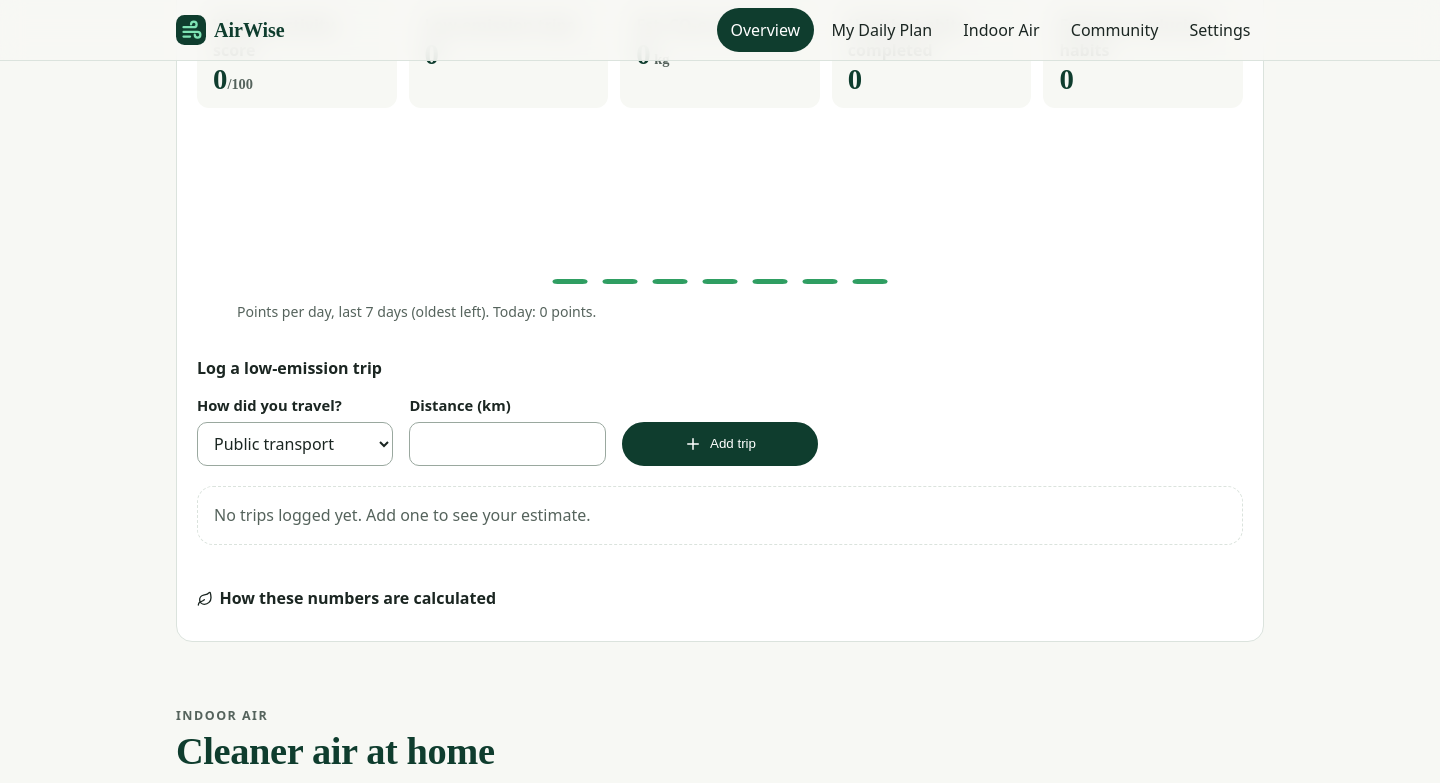
Test case: daily plan, indoor air, impact › logs a trip with validation, updates the tracker and deletes it
(page scrolled)
Click the button "Add trip": (720, 444) [622,422,818,466]
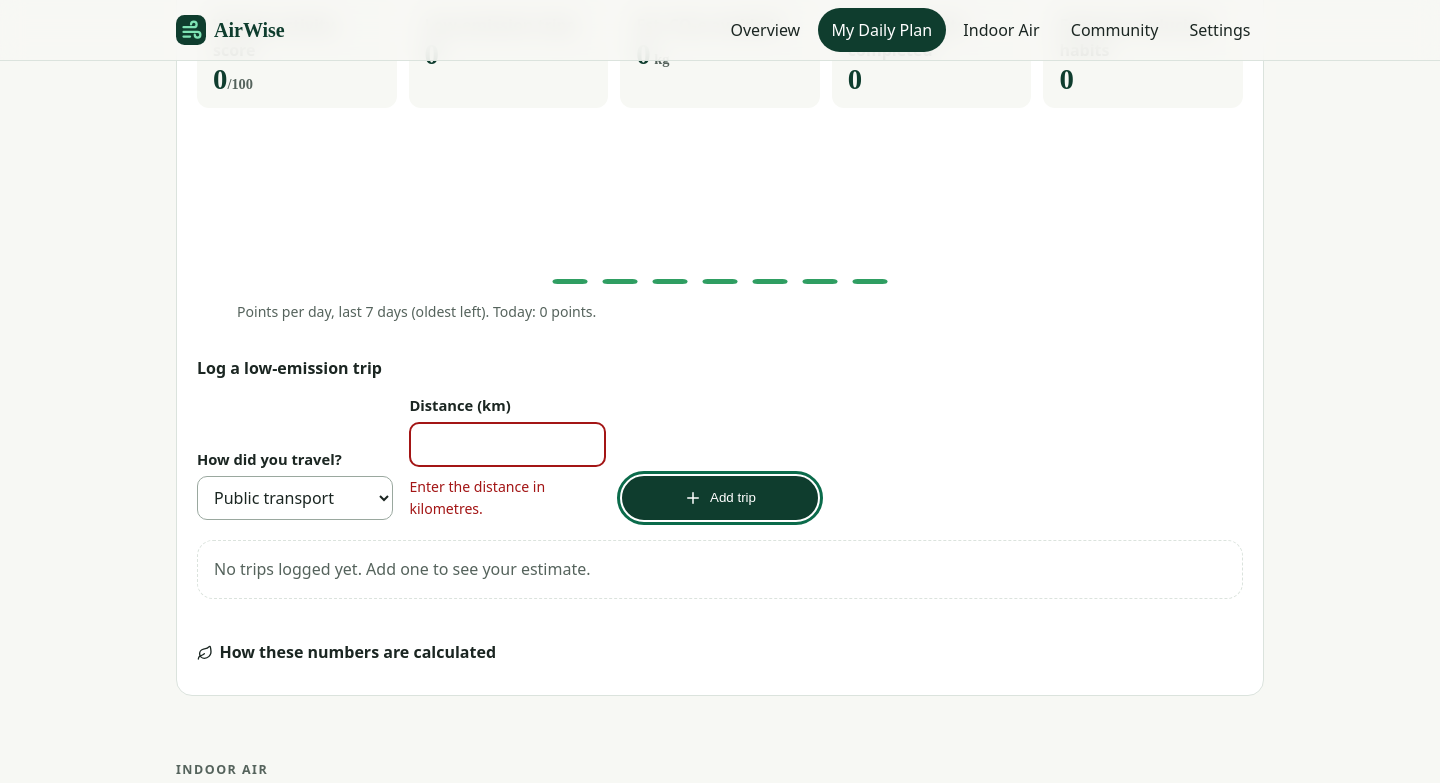
Now the text "Enter the distance in kilometres." is shown, box [409,477,545,518]
In the field labelled "Distance (km)": (508, 444) [409,422,606,466], type "10"
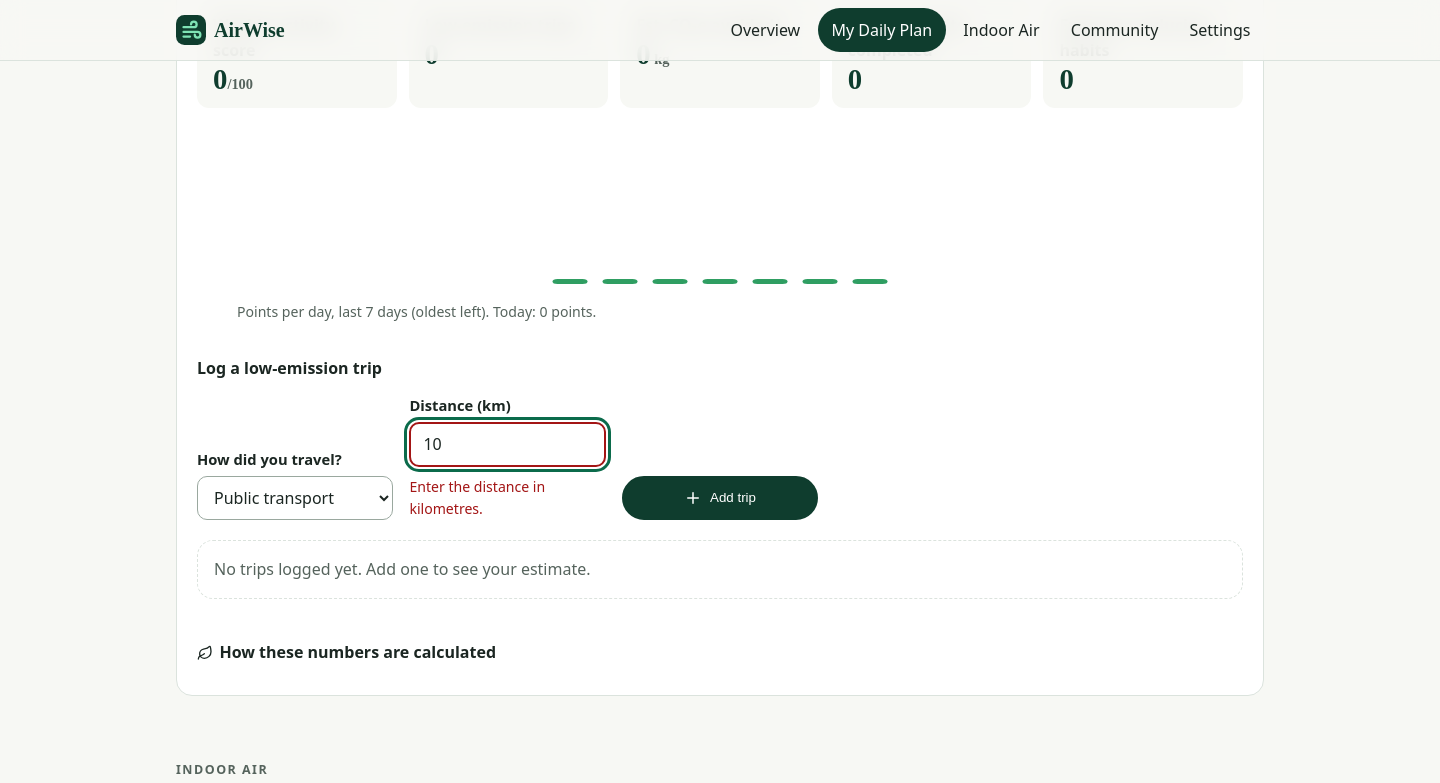
Click the button "Add trip": (720, 498) [622,476,818,520]
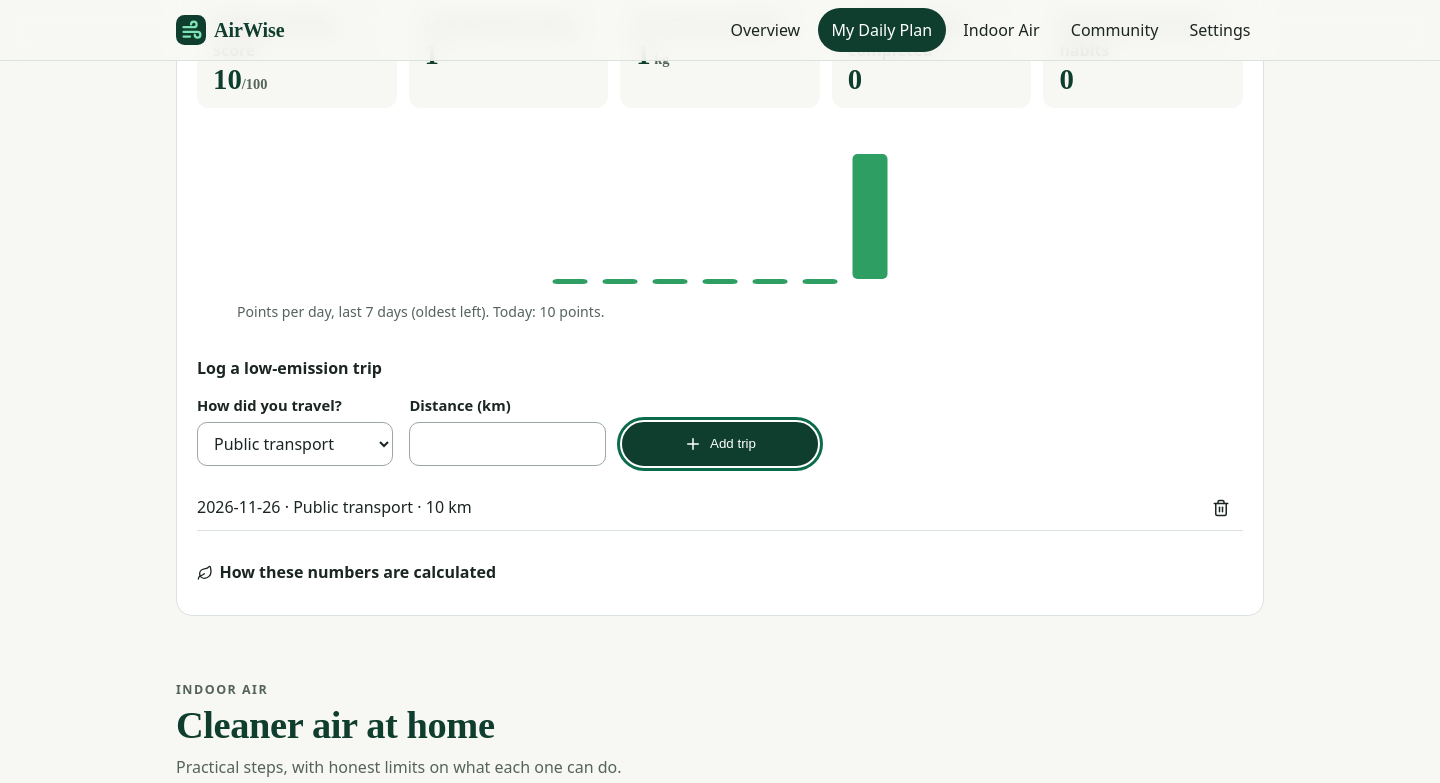
Now the text "2026-11-26 · Public transport · 10 km" is shown, box [197,495,472,520]
Now the text "1" is shown, box [425,38,439,70]
Now the element showing "1 kg" is shown, box [636,38,669,70]
Click the button named "Delete trip": (1221, 508) [1199,486,1243,530]
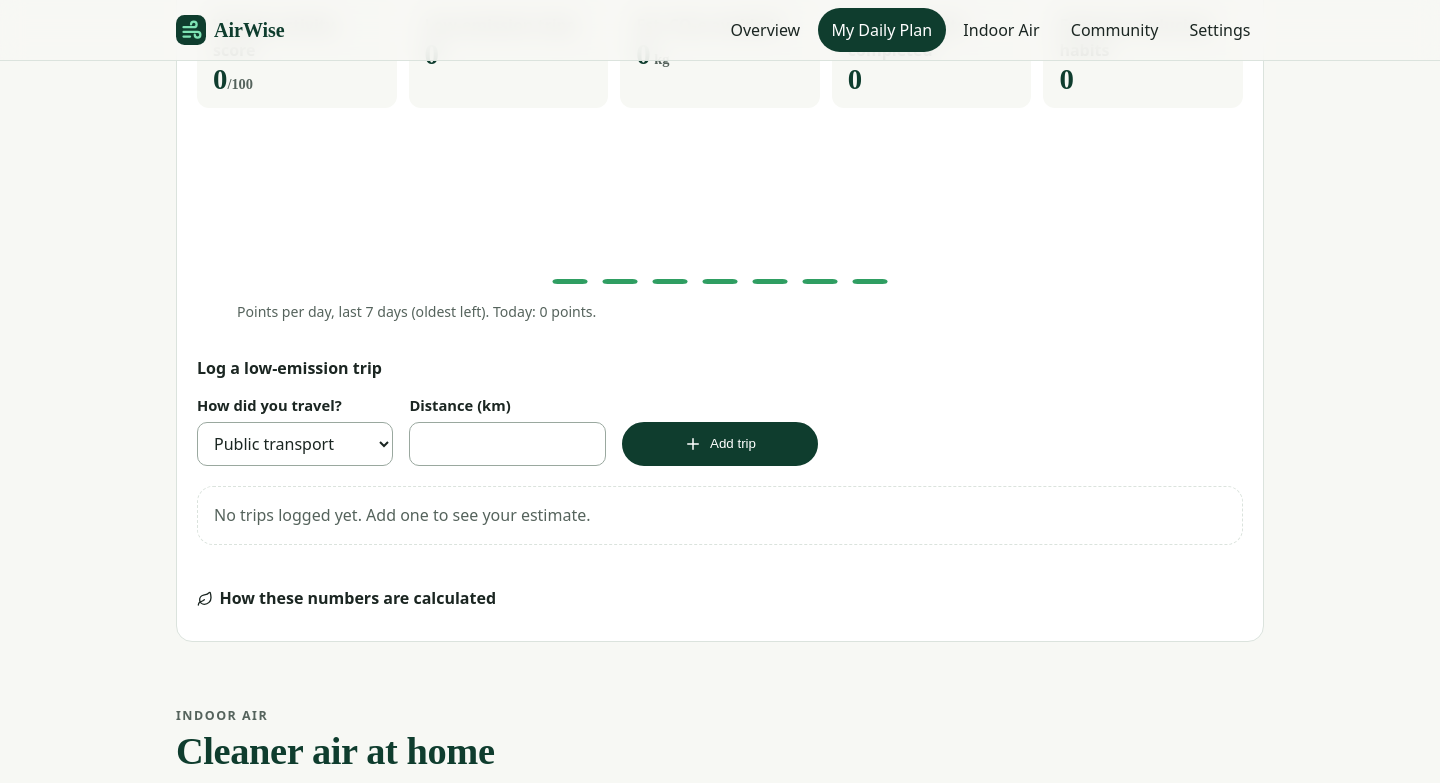
Now the text "No trips logged yet. Add one to see your estimate." is shown, box [197,486,1243,544]
